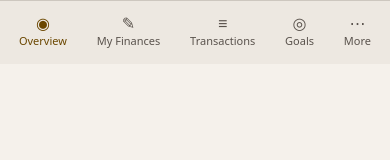
Test: U1: the phone's bar › Escape and a tap outside close the list
The image size is (390, 160).
Click the button "⋯ More" at (358, 32), box [336,9,379,56]
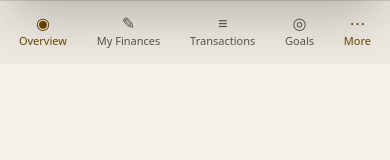
Press Escape
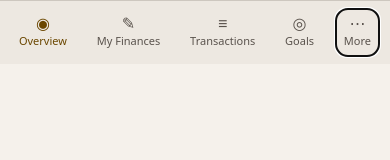
Check: the button "⋯ More" is collapsed
Click the button "⋯ More" at (358, 32), box [336,9,379,56]
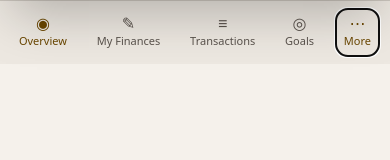
Press the mouse on the element that starts with "Overview" at (195, 32), box [0,0,389,64]
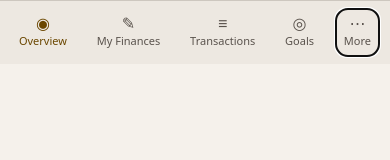
Check: the button "⋯ More" is collapsed, box [336,9,379,56]
